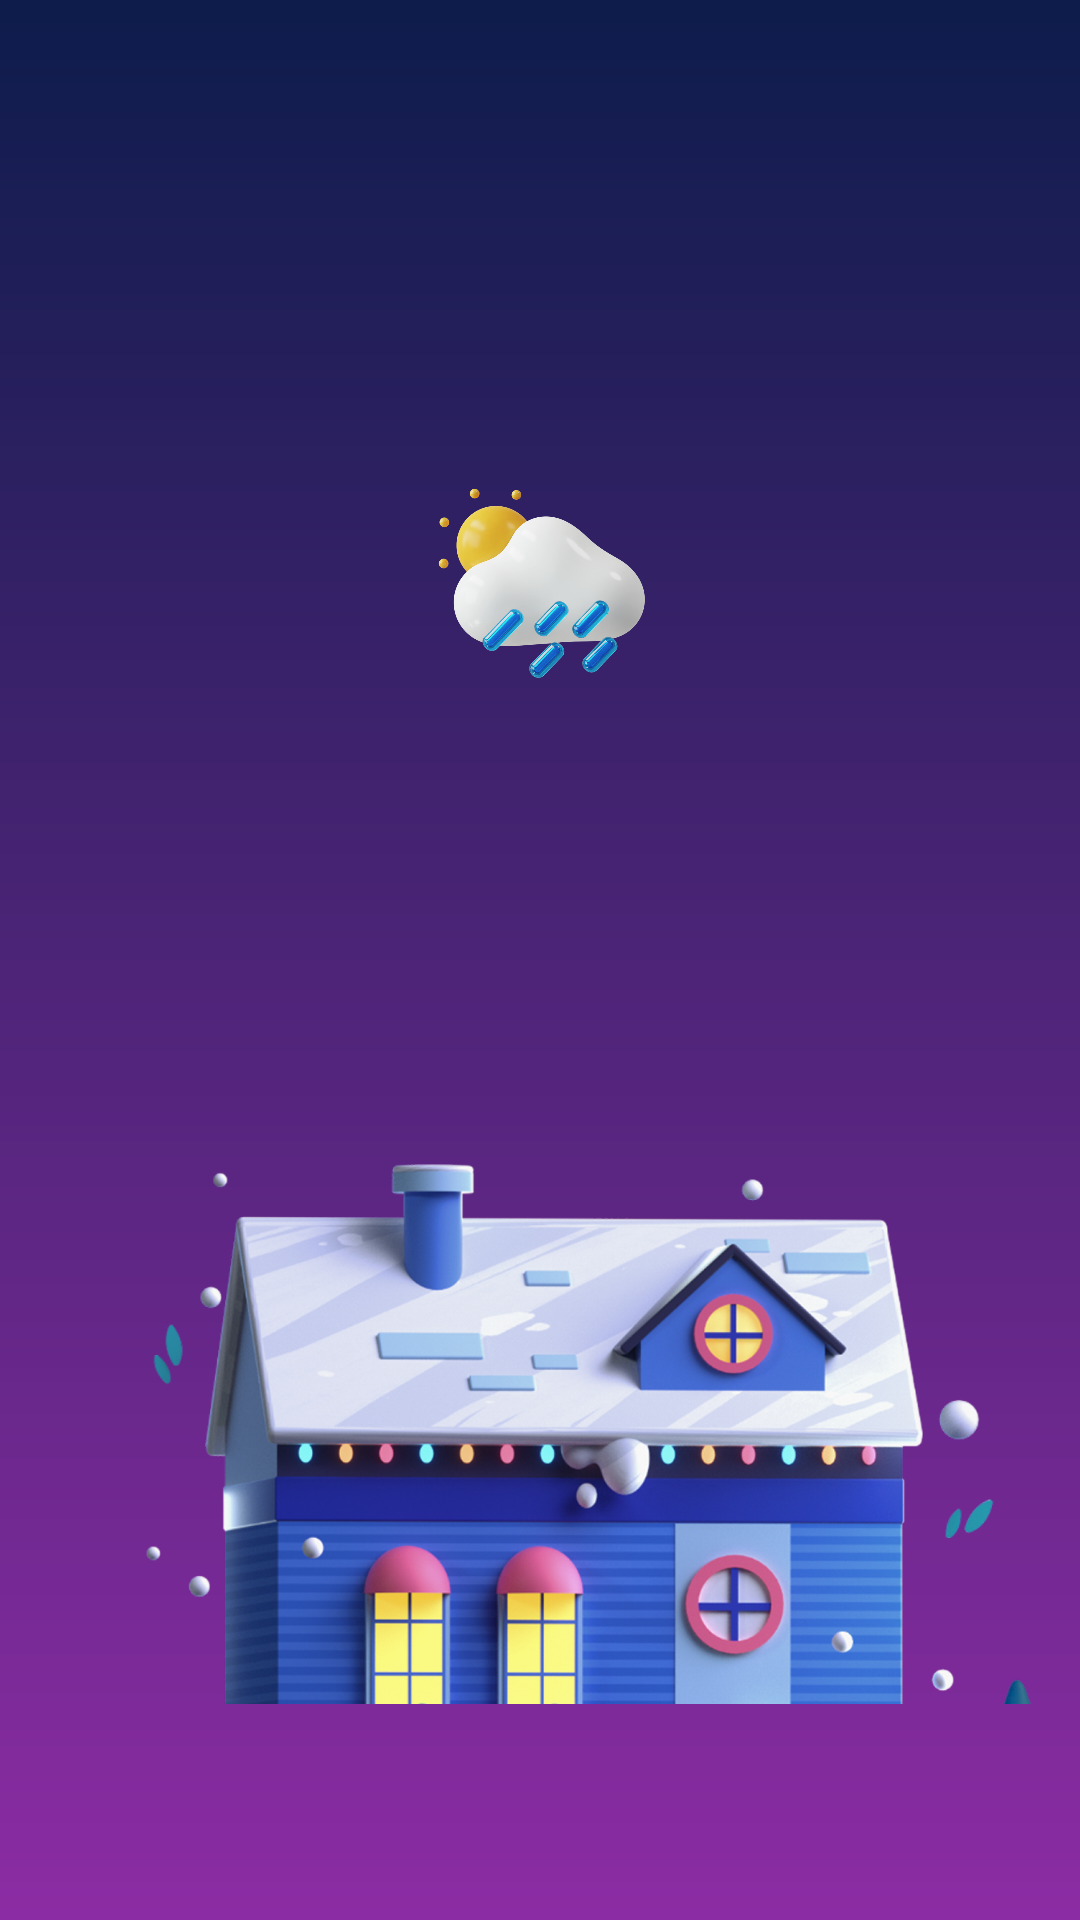

Locate icon controls on the screen. Image size 1080×1920, boxes as Rect(x1, y1, x2, y2).
Main weather icon: Rect(439, 489, 645, 678)
